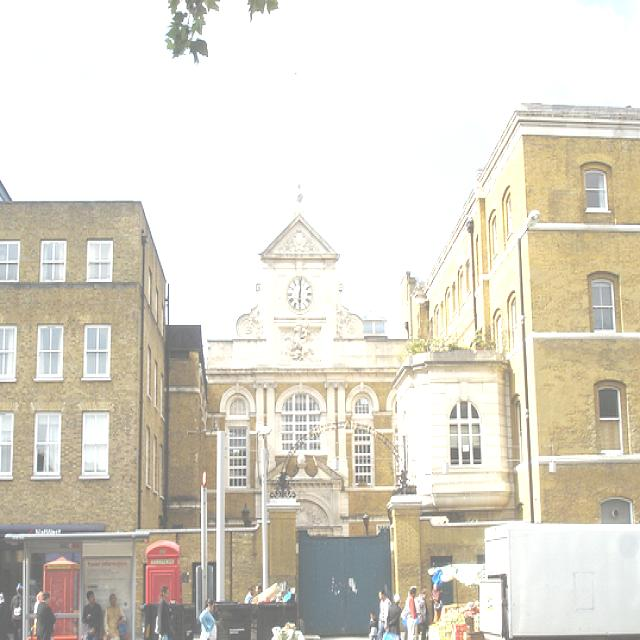Vehicle: (480, 524, 640, 640)
